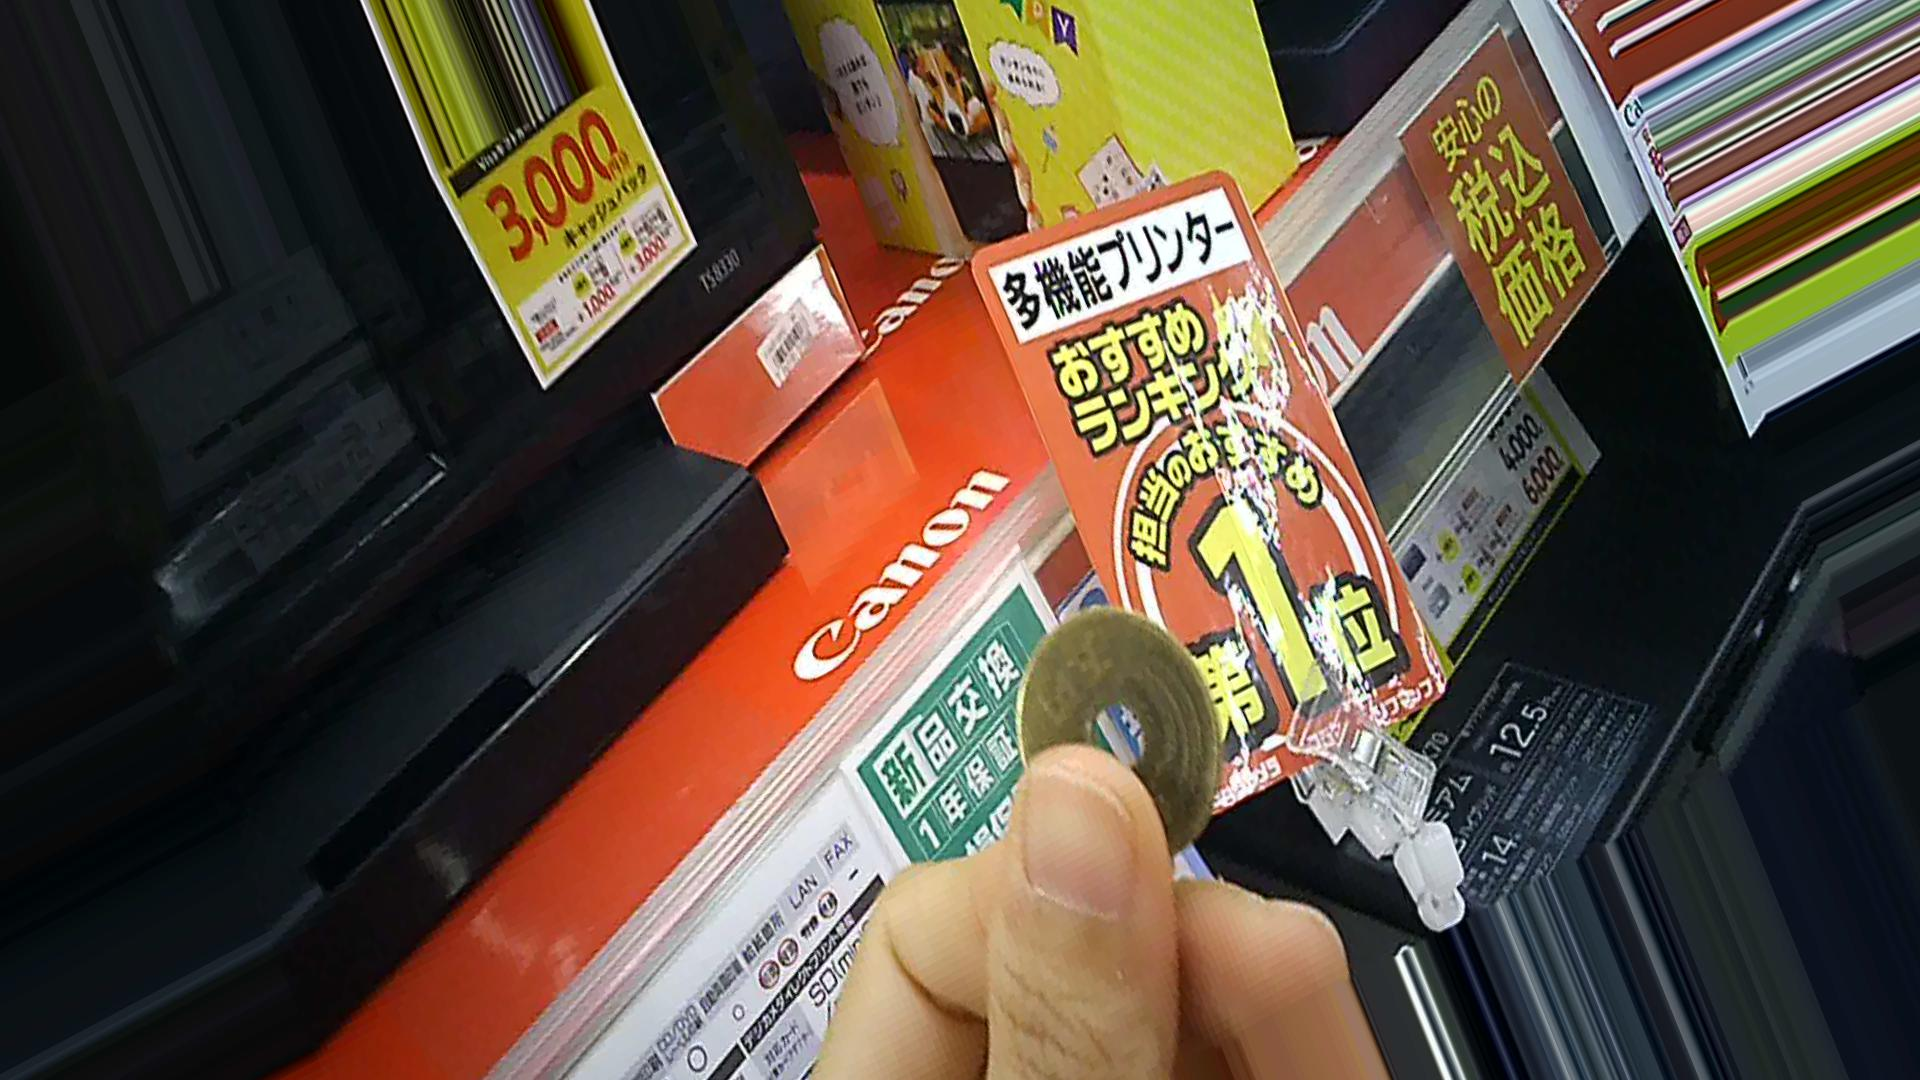5 Yen: (1006, 615, 1236, 858)
